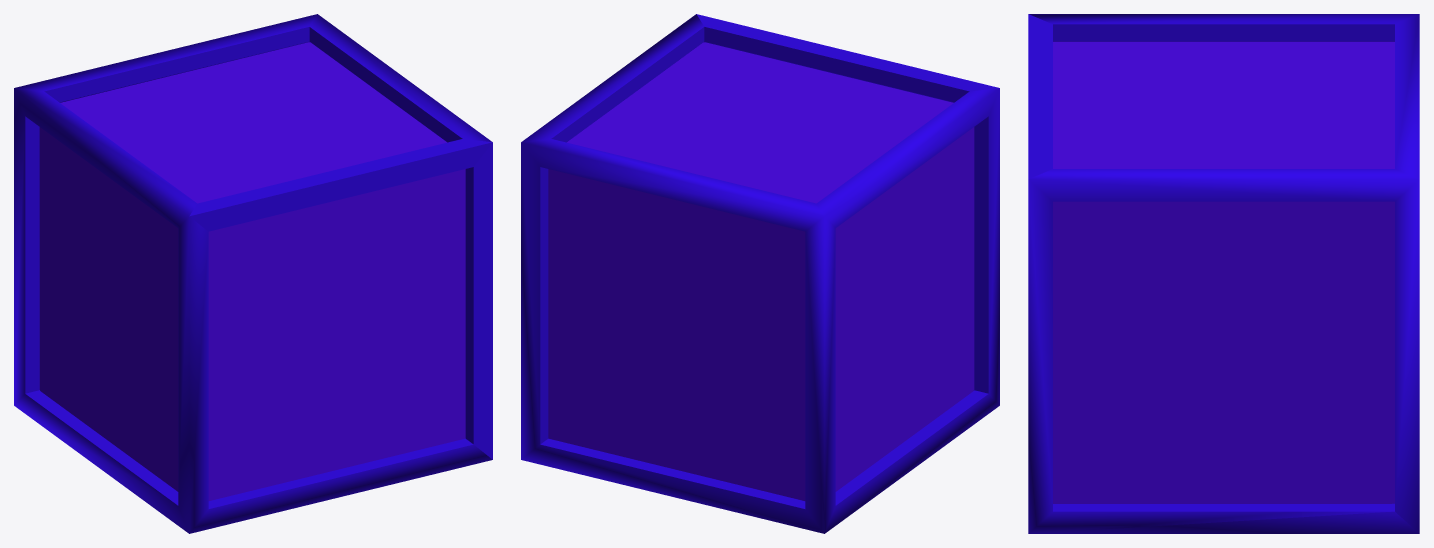
3 views of the same model, side by side, from view 1: azimuth 30°, elevation 25°; view 2: azimuth 150°, elevation 25°; view 3: azimuth 270°, elevation 25° (orthographic). The views are drawn at different scales.
Visible parts, largest first — view 1: 立方体, Cube.001; view 2: 立方体, Cube.001; view 3: 立方体, Cube.001.
Boxes of the visible parts, x1=… form: 立方体: x1=39, y1=42, x2=465, y2=500; Cube.001: x1=14, y1=14, x2=492, y2=533; 立方体: x1=548, y1=42, x2=974, y2=500; Cube.001: x1=521, y1=14, x2=999, y2=533; 立方体: x1=1053, y1=41, x2=1394, y2=503; Cube.001: x1=1028, y1=14, x2=1419, y2=533.
Size of the model in its own units: 200 by 200 by 200.
